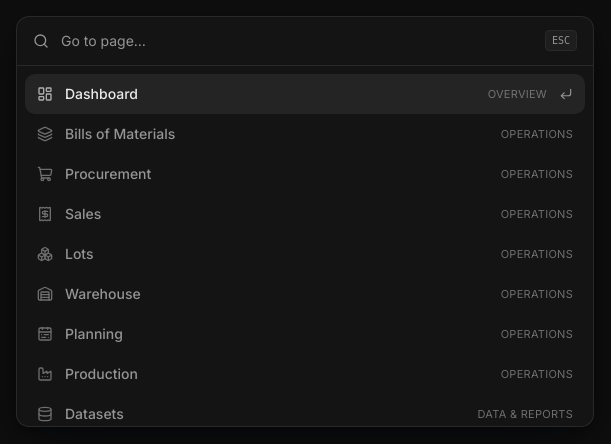
CommandPalette › says when nothing matches
In the field with placeholder "Go to page…": coordinates (297, 41) [61, 17, 533, 65], type "zzzz"
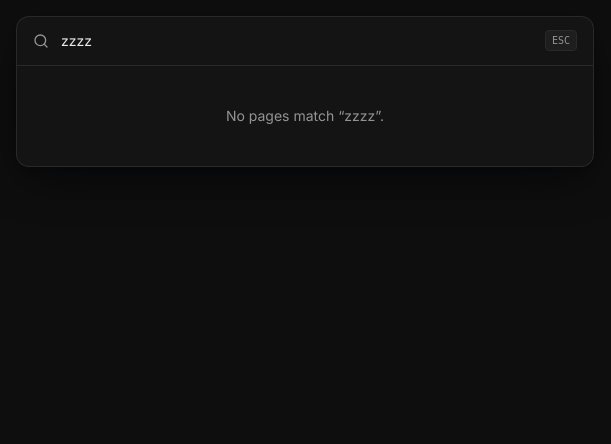
Expected: the text "No pages match “zzzz”." is shown, [226, 107, 384, 124]
